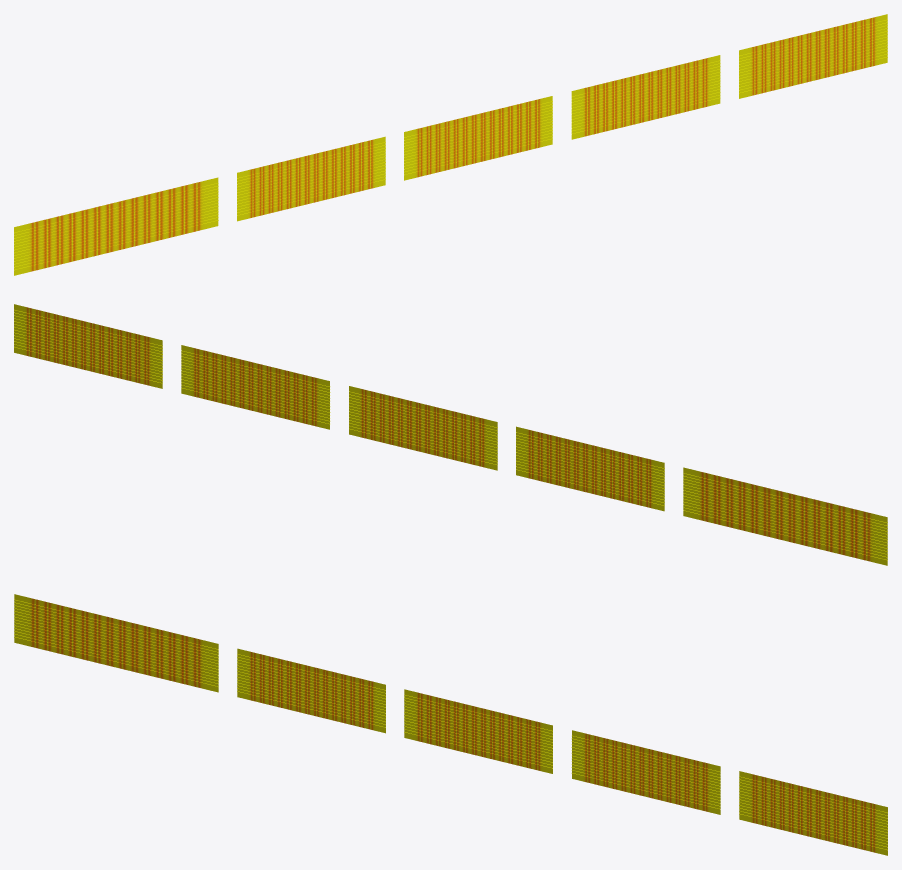
The model's file is RB_Walls_1.fbx.
The picture shows the model from 3 angles, top to bottom: view 1: azimuth 30°, elevation 25°; view 2: azimuth 150°, elevation 25°; view 3: azimuth 330°, elevation 25°; orthographic projection.
Parts seen in each view (by area): view 1: beam_0.5x2_Cube.366_beam_0.5x2_Cube.012; view 2: beam_0.5x2_Cube.366_beam_0.5x2_Cube.012; view 3: beam_0.5x2_Cube.366_beam_0.5x2_Cube.012.
Boxes of the visible parts, bbox=[...] form: beam_0.5x2_Cube.366_beam_0.5x2_Cube.012: bbox=[14, 14, 887, 275]; beam_0.5x2_Cube.366_beam_0.5x2_Cube.012: bbox=[14, 304, 887, 565]; beam_0.5x2_Cube.366_beam_0.5x2_Cube.012: bbox=[14, 594, 887, 855].
Size of the model in its own units: 4700 by 250 by 3.
